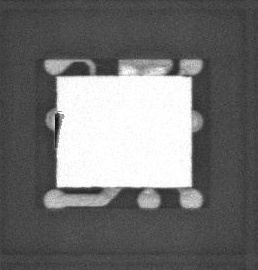DIE_BROKEN: (53, 108, 64, 148)
